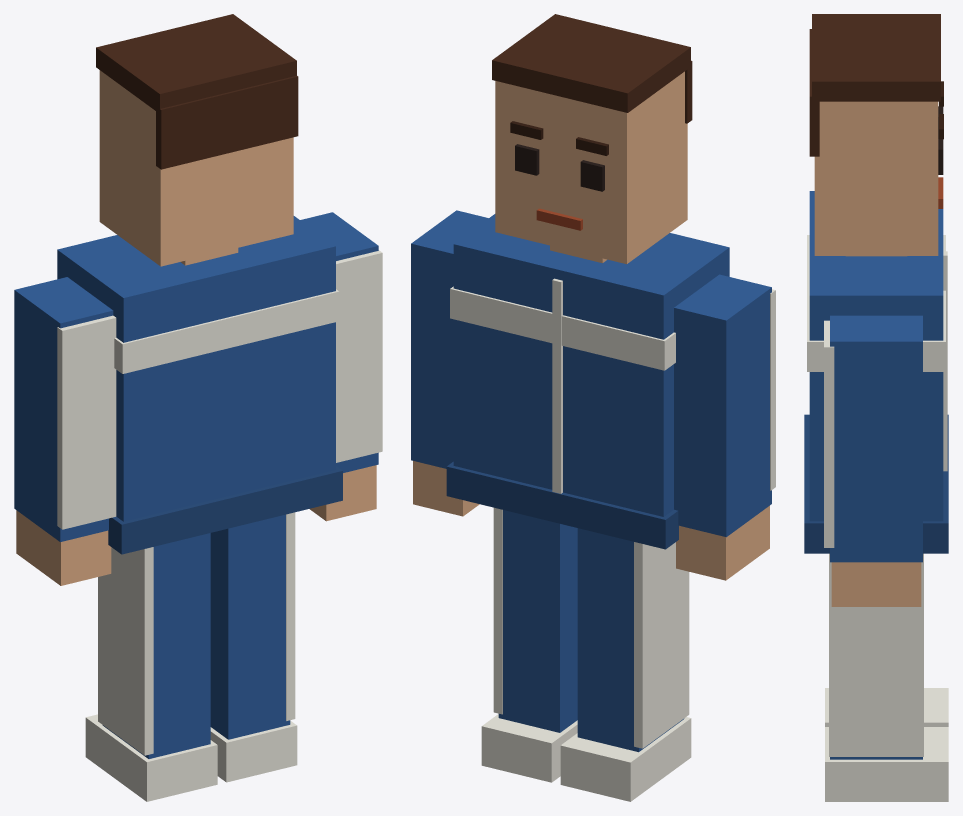
The model's file is coach.glb.
3 renders of one model, left to right at view 1: azimuth 30°, elevation 25°; view 2: azimuth 150°, elevation 25°; view 3: azimuth 270°, elevation 25°, orthographic.
Visible parts, largest first — view 1: Box13, Box18, Box7, Box4, Box1, Box5, Box24, Box2, Box11, Box25, Box16, Box14 (+6 smaller); view 2: Box13, Box18, Box4, Box7, Box24, Box1, Box10, Box2, Box16, Box14, Box3, Box9 (+7 smaller); view 3: Box10, Box18, Box13, Box8, Box24, Box9, Box12, Box16, Box11, Box14, Box3, Box15 (+1 smaller).
Part boxes in pixels (x1=…): Box13: x1=57, y1=216, x2=335, y2=521; Box18: x1=99, y1=70, x2=293, y2=266; Box7: x1=210, y1=514, x2=290, y2=739; Box4: x1=14, y1=277, x2=113, y2=541; Box1: x1=102, y1=533, x2=210, y2=758; Box5: x1=57, y1=315, x2=116, y2=529; Box24: x1=96, y1=14, x2=296, y2=113; Box2: x1=98, y1=547, x2=153, y2=755; Box11: x1=336, y1=250, x2=382, y2=462; Box25: x1=156, y1=75, x2=298, y2=169; Box16: x1=108, y1=466, x2=342, y2=554; Box14: x1=114, y1=289, x2=339, y2=373; Box13: x1=453, y1=214, x2=729, y2=516; Box18: x1=495, y1=71, x2=687, y2=264; Box4: x1=674, y1=274, x2=771, y2=537; Box7: x1=498, y1=510, x2=577, y2=732; Box24: x1=492, y1=14, x2=690, y2=112; Box1: x1=577, y1=528, x2=684, y2=752; Box10: x1=411, y1=210, x2=488, y2=468; Box2: x1=634, y1=542, x2=689, y2=748; Box16: x1=446, y1=461, x2=678, y2=549; Box14: x1=450, y1=286, x2=675, y2=370; Box3: x1=560, y1=717, x2=691, y2=801; Box9: x1=481, y1=714, x2=577, y2=782; Box10: x1=830, y1=315, x2=922, y2=562; Box18: x1=814, y1=101, x2=938, y2=255; Box13: x1=809, y1=191, x2=943, y2=521; Box8: x1=829, y1=553, x2=923, y2=756; Box24: x1=812, y1=14, x2=940, y2=101; Box9: x1=825, y1=727, x2=948, y2=801; Box12: x1=831, y1=562, x2=921, y2=606; Box16: x1=804, y1=414, x2=948, y2=553; Box11: x1=824, y1=320, x2=834, y2=547; Box14: x1=807, y1=235, x2=945, y2=371; Box3: x1=825, y1=688, x2=948, y2=726; Box15: x1=943, y1=251, x2=947, y2=471.
Size of the model in its own units: 0.821 by 1.74 by 0.3175.
